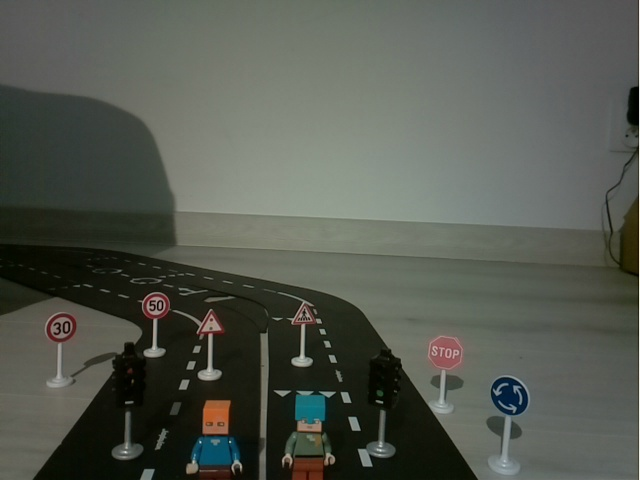green light: (357, 345, 408, 462)
limit 30: (42, 312, 81, 390)
limit 50: (138, 292, 171, 358)
pedestrian sign: (287, 297, 320, 371)
person: (186, 394, 247, 480), (282, 390, 337, 480)
red light: (112, 342, 144, 461)
round: (485, 372, 531, 475)
stop: (422, 328, 468, 420)
traffic light sign: (195, 309, 227, 383)
